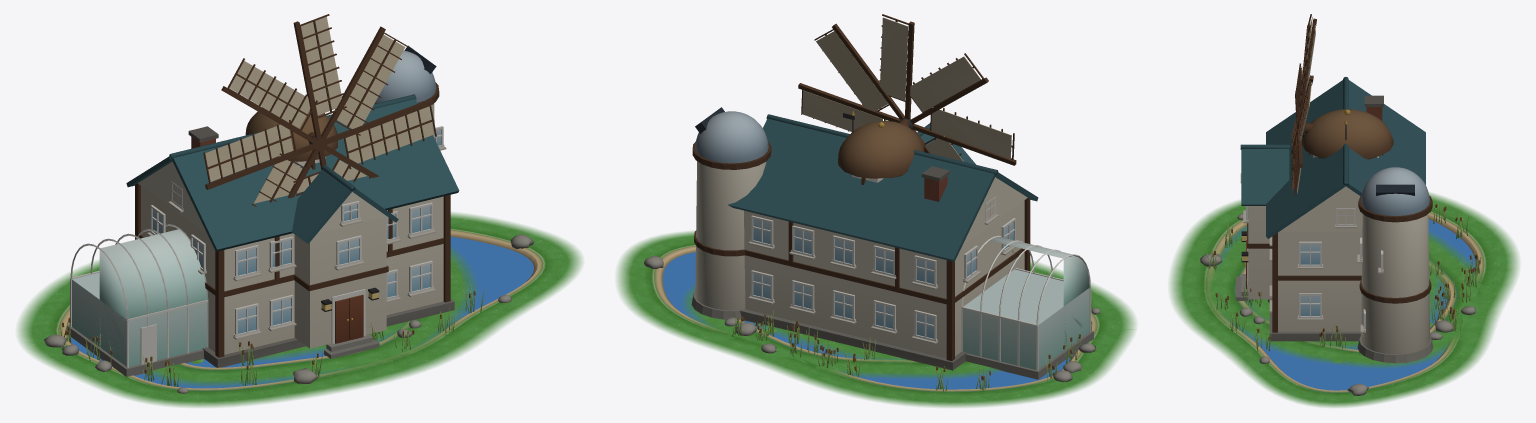
Rendered from nature_props.glb.
The picture shows the model from 3 angles, left to right: view 1: azimuth 30°, elevation 25°; view 2: azimuth 150°, elevation 25°; view 3: azimuth 270°, elevation 25°; orthographic projection. The views are drawn at different scales.
Parts seen in each view (by area): view 1: cc_laboratorio_campo_lab_parede, cc_lago_natural_3_grass_lago_borda, cc_laboratorio_campo_lab_vidro, cc_laboratorio_campo_lab_telhado, cc_laboratorio_campo_lab_madeira, cc_lago_natural_2_grass_lago_borda, cc_moinho_lab_parede, cc_lago_natural_3_water_lago, cc_moinho_x_lab_parede, cc_moinho_lab_madeira, cc_laboratorio_campo_lab_pedra, cc_moinho_x_lab_madeira (+8 smaller); view 2: cc_laboratorio_campo_lab_parede, cc_laboratorio_campo_lab_telhado, cc_lago_natural_3_grass_lago_borda, cc_laboratorio_campo_lab_vidro, cc_laboratorio_campo_lab_madeira, cc_moinho_lab_parede, cc_laboratorio_campo_lab_pedra, cc_lago_natural_3_water_lago, cc_lago_natural_2_grass_lago_borda, cc_moinho_x_lab_parede, cc_moinho_lab_telhado, cc_laboratorio_campo_lab_metal (+7 smaller); view 3: cc_laboratorio_campo_lab_parede, cc_lago_natural_3_grass_lago_borda, cc_laboratorio_campo_lab_telhado, cc_lago_natural_2_grass_lago_borda, cc_lago_natural_3_water_lago, cc_laboratorio_campo_lab_madeira, cc_moinho_lab_telhado, cc_laboratorio_campo_lab_pedra, cc_laboratorio_campo_lab_metal, cc_lago_natural_3_grass_lago_fundo, cc_lago_natural_3_detalhe_leaf_junco, cc_lago_natural_1_grass_lago_borda (+8 smaller).
Part boxes in pixels (<box>): cc_laboratorio_campo_lab_parede: <box>138,103,443,354</box>; cc_lago_natural_3_grass_lago_borda: <box>17,212,582,407</box>; cc_laboratorio_campo_lab_vidro: <box>72,129,440,367</box>; cc_laboratorio_campo_lab_telhado: <box>126,94,459,251</box>; cc_laboratorio_campo_lab_madeira: <box>70,45,450,367</box>; cc_lago_natural_2_grass_lago_borda: <box>147,247,476,386</box>; cc_moinho_lab_parede: <box>205,16,433,192</box>; cc_lago_natural_3_water_lago: <box>68,236,533,391</box>; cc_moinho_x_lab_parede: <box>229,34,405,203</box>; cc_moinho_lab_madeira: <box>203,14,436,195</box>; cc_laboratorio_campo_lab_pedra: <box>67,126,454,376</box>; cc_moinho_x_lab_madeira: <box>221,26,408,206</box>; cc_laboratorio_campo_lab_parede: <box>695,161,1027,358</box>; cc_laboratorio_campo_lab_telhado: <box>728,114,1038,261</box>; cc_lago_natural_3_grass_lago_borda: <box>617,231,1135,407</box>; cc_laboratorio_campo_lab_vidro: <box>753,218,1089,369</box>; cc_laboratorio_campo_lab_madeira: <box>692,107,1091,370</box>; cc_moinho_lab_parede: <box>802,17,1011,182</box>; cc_laboratorio_campo_lab_pedra: <box>691,166,1093,379</box>; cc_lago_natural_3_water_lago: <box>663,252,1073,391</box>; cc_lago_natural_2_grass_lago_borda: <box>683,286,1001,378</box>; cc_moinho_x_lab_parede: <box>816,31,981,161</box>; cc_moinho_lab_telhado: <box>838,120,924,178</box>; cc_laboratorio_campo_lab_metal: <box>695,110,854,163</box>; cc_laboratorio_campo_lab_parede: <box>1248,186,1429,354</box>; cc_lago_natural_3_grass_lago_borda: <box>1169,192,1519,407</box>; cc_laboratorio_campo_lab_telhado: <box>1240,77,1425,238</box>; cc_lago_natural_2_grass_lago_borda: <box>1200,224,1492,367</box>; cc_lago_natural_3_water_lago: <box>1217,219,1475,392</box>; cc_laboratorio_campo_lab_madeira: <box>1240,173,1432,332</box>; cc_moinho_lab_telhado: <box>1302,109,1393,159</box>; cc_laboratorio_campo_lab_pedra: <box>1236,95,1433,363</box>; cc_laboratorio_campo_lab_metal: <box>1241,119,1429,266</box>; cc_lago_natural_3_grass_lago_fundo: <box>1206,212,1484,392</box>; cc_lago_natural_3_detalhe_leaf_junco: <box>1206,203,1481,362</box>; cc_lago_natural_1_grass_lago_borda: <box>1242,258,1446,349</box>.
Bounding box in the file's own units: 30.08 × 17.97 × 20.03.
14 materials, 1 textured.
